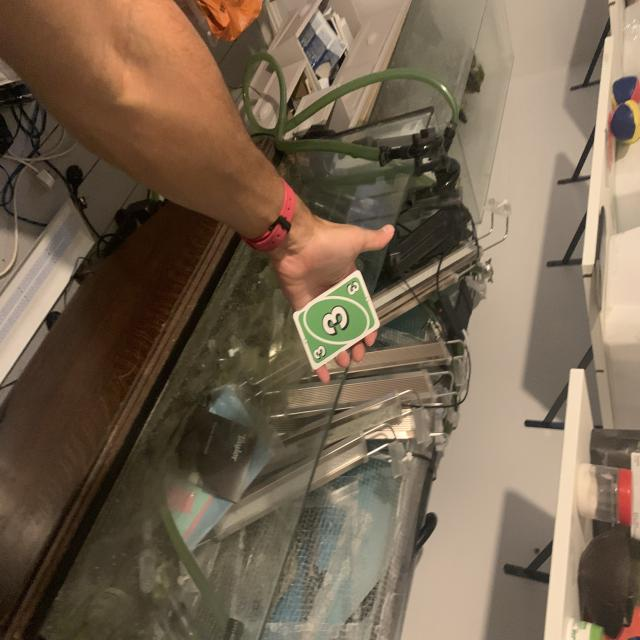lgreen-3: (344, 277, 361, 299)
